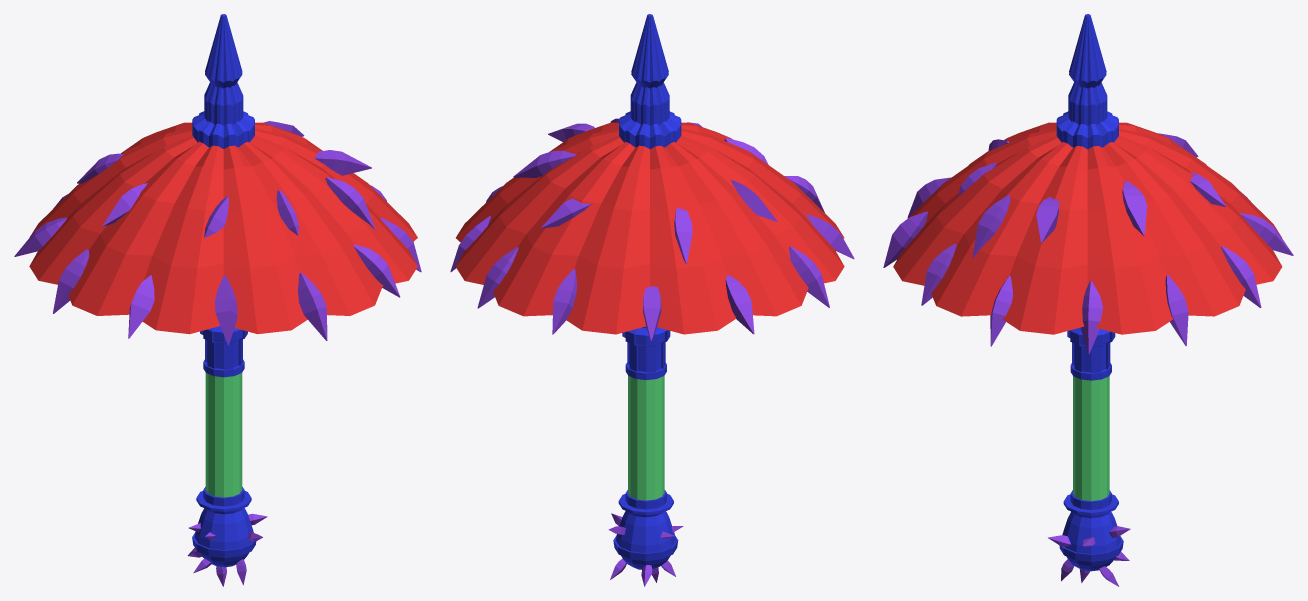
Rendered from Parasolka 5.fbx.
The picture shows the model from 3 angles, left to right: view 1: azimuth 30°, elevation 25°; view 2: azimuth 150°, elevation 25°; view 3: azimuth 270°, elevation 25°; orthographic projection.
Parts seen in each view (by area): view 1: Sphere; view 2: Sphere; view 3: Sphere.
Part boxes in pixels (box(x1,y1,x2,y2)): Sphere: box(14, 14, 421, 586); Sphere: box(450, 14, 854, 586); Sphere: box(883, 14, 1293, 586).
Size of the model in its own units: 643 by 1015 by 662.
